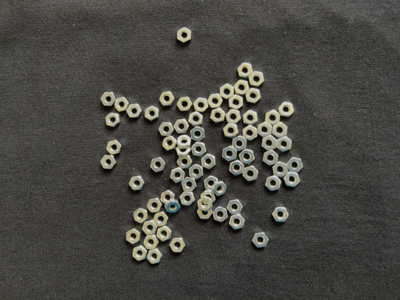nut: (272, 207, 289, 223), (265, 176, 282, 192), (284, 172, 301, 188), (262, 135, 278, 152), (147, 249, 163, 265), (147, 198, 163, 214), (107, 140, 123, 156), (273, 162, 289, 178), (263, 150, 279, 166), (243, 166, 259, 182), (239, 149, 255, 165), (265, 110, 281, 126), (279, 102, 295, 118), (210, 108, 226, 124), (249, 71, 265, 87), (133, 245, 148, 262), (287, 158, 304, 173), (243, 125, 258, 142), (238, 62, 253, 79), (177, 27, 192, 44), (170, 238, 186, 253), (134, 208, 149, 224), (253, 233, 269, 248), (213, 207, 228, 223), (227, 200, 243, 215), (197, 205, 213, 220), (200, 190, 216, 205), (212, 181, 227, 197), (181, 177, 197, 192), (151, 157, 166, 173), (101, 155, 117, 170), (189, 164, 204, 180), (201, 154, 216, 170), (277, 137, 292, 153), (230, 160, 245, 176), (177, 135, 193, 150), (191, 126, 206, 142), (174, 119, 190, 134), (177, 97, 193, 112), (272, 123, 288, 138), (243, 110, 258, 126), (246, 88, 261, 104), (220, 84, 235, 100), (234, 80, 250, 95), (144, 235, 159, 250), (127, 229, 142, 244), (157, 227, 172, 242), (143, 221, 158, 236), (154, 212, 169, 227), (230, 215, 245, 230), (204, 176, 219, 191), (180, 192, 195, 207), (130, 176, 145, 191), (106, 113, 121, 128), (171, 168, 186, 183), (162, 136, 177, 151), (159, 122, 174, 137), (115, 97, 130, 112), (160, 92, 175, 107), (189, 112, 204, 127), (194, 98, 209, 113), (224, 124, 239, 139), (226, 109, 241, 124), (208, 94, 223, 109), (198, 197, 212, 213), (165, 200, 181, 214), (223, 146, 237, 162), (177, 155, 193, 169), (233, 136, 247, 152), (258, 122, 272, 138), (161, 190, 175, 205), (101, 93, 116, 107), (127, 104, 142, 118), (145, 106, 159, 121), (229, 95, 243, 110), (192, 143, 206, 157), (176, 145, 191, 158)
